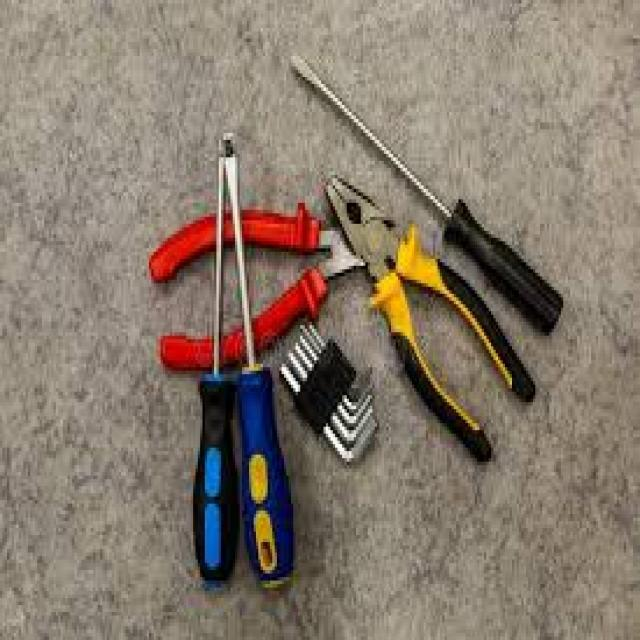screwdriver: (286, 51, 568, 330), (222, 136, 294, 594), (192, 134, 239, 596)
